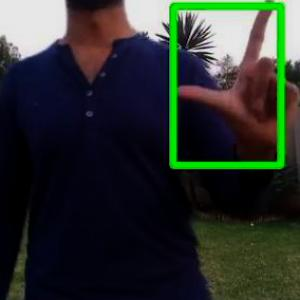land_hand: (170, 0, 299, 150)
